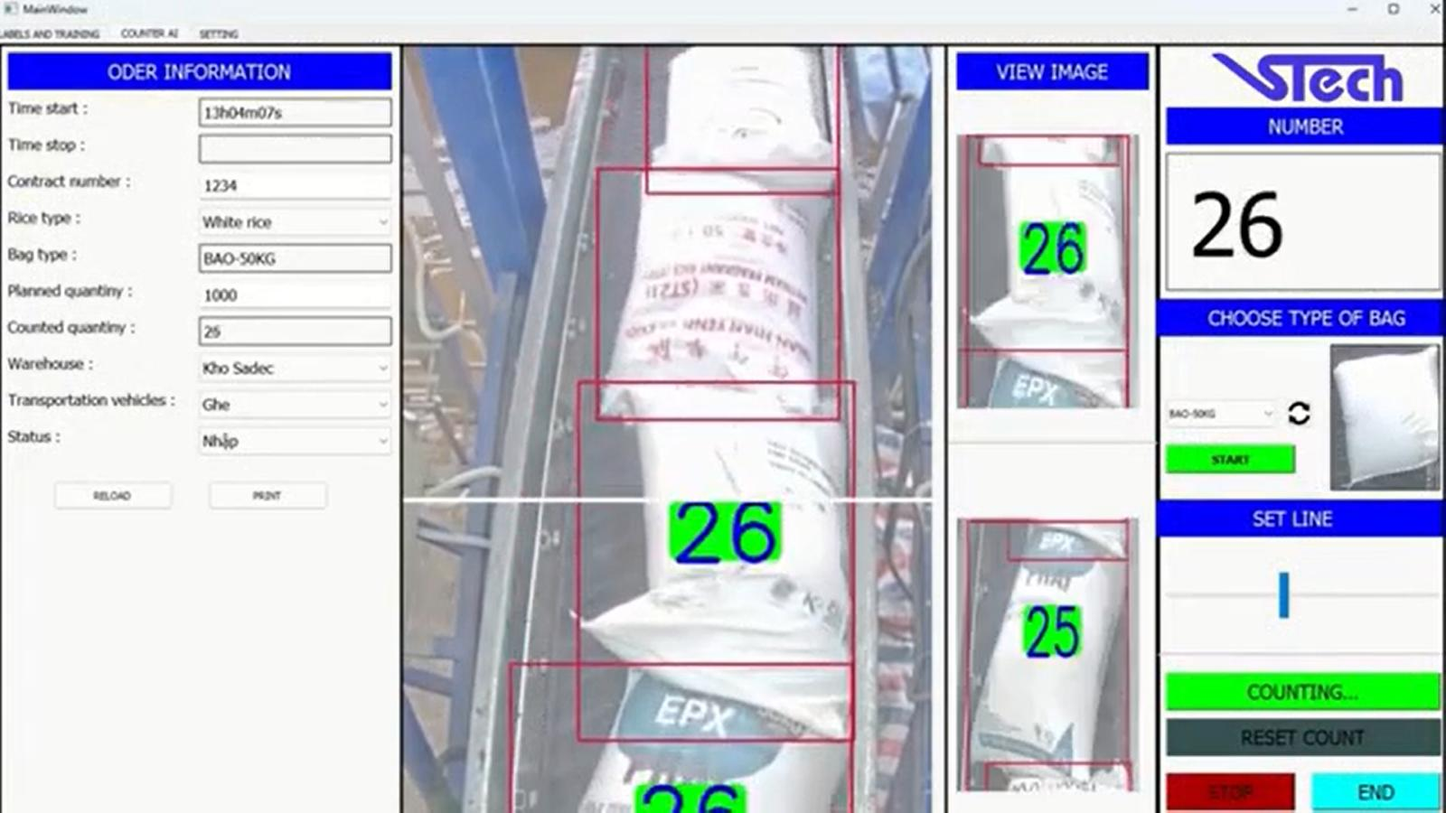rice-bag: (584, 424, 850, 661), (965, 521, 1131, 790), (608, 195, 818, 383), (972, 168, 1128, 350), (664, 46, 831, 164)
